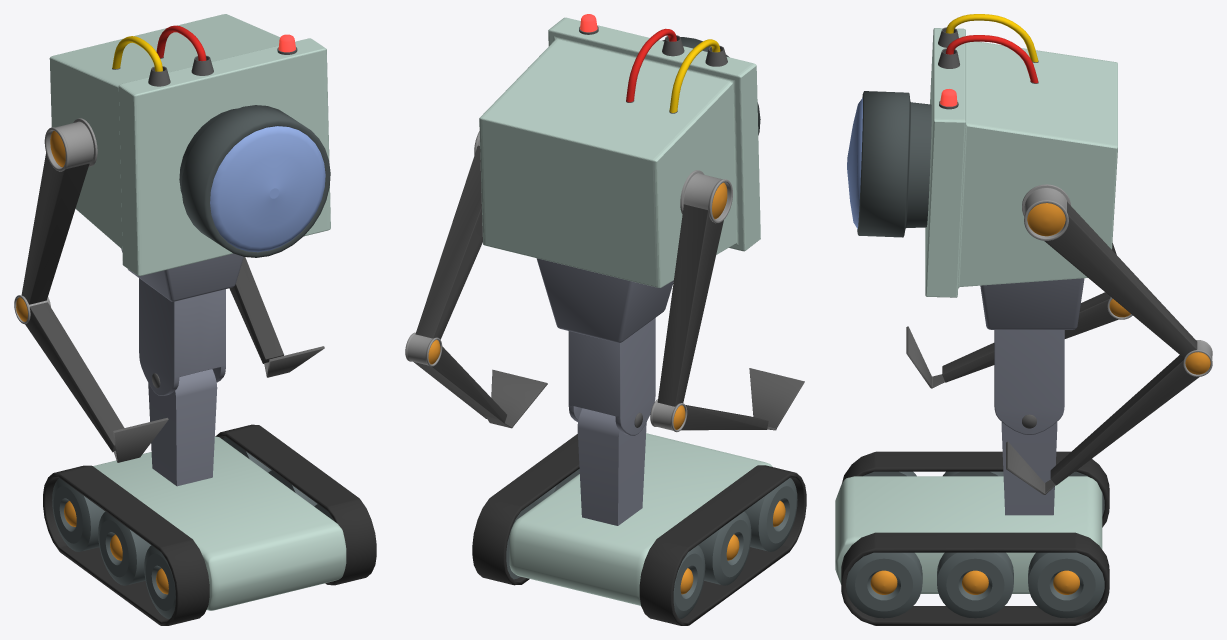
File: butterRobot.fbx
The picture shows the model from 3 angles, left to right: view 1: azimuth 30°, elevation 25°; view 2: azimuth 150°, elevation 25°; view 3: azimuth 270°, elevation 25°; orthographic projection.
Visible parts, largest first — view 1: Cube, Cube.008, Cylinder.002, Cube.010, Cube.005, Cylinder.019, Cylinder, Cube.009, Cube.007, Cylinder.021, Cube.004, Cylinder.007 (+7 smaller); view 2: Cube, Cube.008, Cube.010, Cylinder.019, Cube.005, Cube.004, Cube.007, Cube.009, Cylinder.018, Cylinder.020, Cylinder.006, Cylinder.007 (+6 smaller); view 3: Cube, Cube.008, Cylinder, Cube.009, Cylinder.018, Cube.005, Cylinder.020, Cube.004, Cylinder.005, Cylinder.010, Cylinder.009, Cube.010 (+7 smaller).
Boxes of the visible parts, x1,y1,x2,y2 form: Cube: (49,14,330,275); Cube.008: (93,436,346,610); Cylinder.002: (210,126,325,252); Cube.010: (43,465,209,625); Cube.005: (139,278,225,395); Cylinder.019: (21,118,97,304); Cylinder: (179,105,330,257); Cube.009: (215,424,376,585); Cube.007: (148,369,217,486); Cylinder.021: (14,295,124,452); Cube.004: (121,249,243,301); Cylinder.007: (98,511,151,585); Cube: (479,17,760,287); Cube.008: (509,433,772,605); Cube.010: (639,465,806,625); Cylinder.019: (657,170,732,406); Cube.005: (568,318,655,435); Cube.004: (536,258,673,342); Cube.007: (577,408,646,525); Cube.009: (472,433,579,585); Cylinder.018: (415,131,482,339); Cylinder.020: (405,332,506,423); Cylinder.006: (744,478,797,551); Cylinder.007: (698,511,751,585); Cube: (925,28,1117,297); Cube.008: (835,476,1102,593); Cylinder: (857,91,931,237); Cube.009: (841,532,1109,625); Cylinder.018: (1022,184,1197,358); Cube.005: (994,330,1064,434); Cylinder.020: (1050,340,1212,485); Cube.004: (980,278,1084,329); Cylinder.005: (937,552,1013,618); Cylinder.010: (1028,552,1104,618); Cylinder.009: (846,552,922,618); Cube.010: (842,451,1109,527).
Bounding box in the file's own units: 849 × 1667 × 1071.
